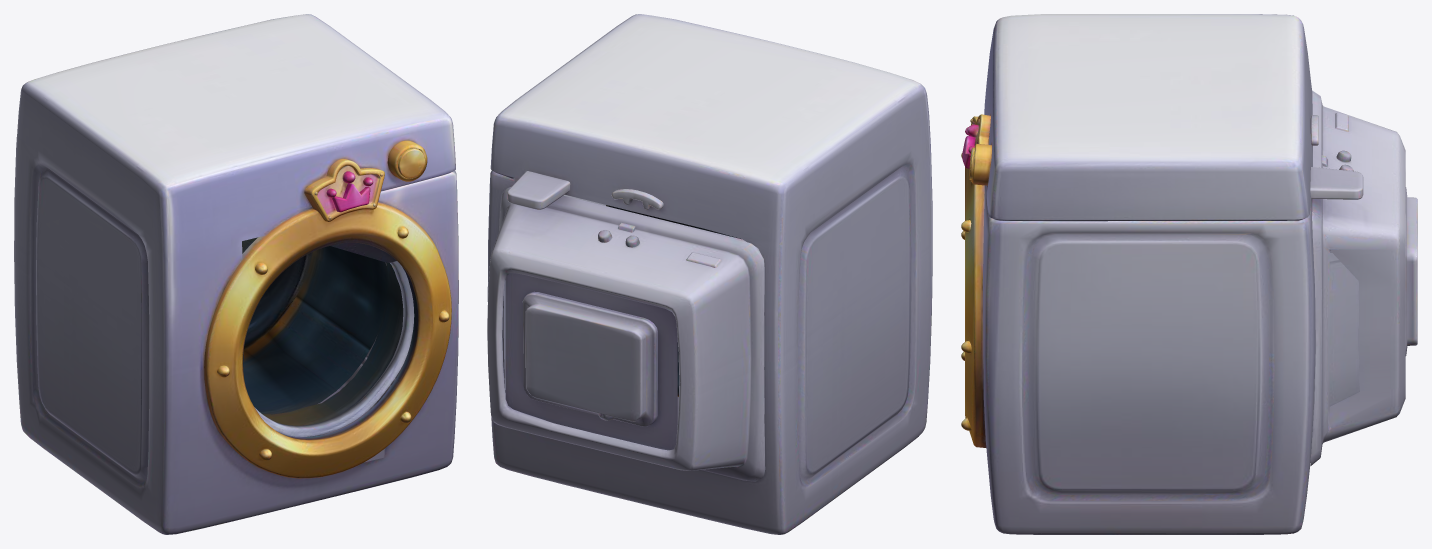
Rendered from washer_user_1k.glb.
3 views of the same model, side by side, from view 1: azimuth 30°, elevation 25°; view 2: azimuth 150°, elevation 25°; view 3: azimuth 270°, elevation 25° (orthographic). The views are drawn at different scales.
Parts seen in each view (by area): view 1: tripo_node_5f8fd297-4f69-4fe1-81ce-81a43776f53f; view 2: tripo_node_5f8fd297-4f69-4fe1-81ce-81a43776f53f; view 3: tripo_node_5f8fd297-4f69-4fe1-81ce-81a43776f53f.
Part boxes in pixels (x1=…): tripo_node_5f8fd297-4f69-4fe1-81ce-81a43776f53f: x1=14, y1=14, x2=458, y2=534; tripo_node_5f8fd297-4f69-4fe1-81ce-81a43776f53f: x1=487, y1=14, x2=932, y2=534; tripo_node_5f8fd297-4f69-4fe1-81ce-81a43776f53f: x1=961, y1=14, x2=1417, y2=534.
Size of the model in its own units: 0.7964 by 0.9243 by 0.9995.
1 material, 1 textured.
